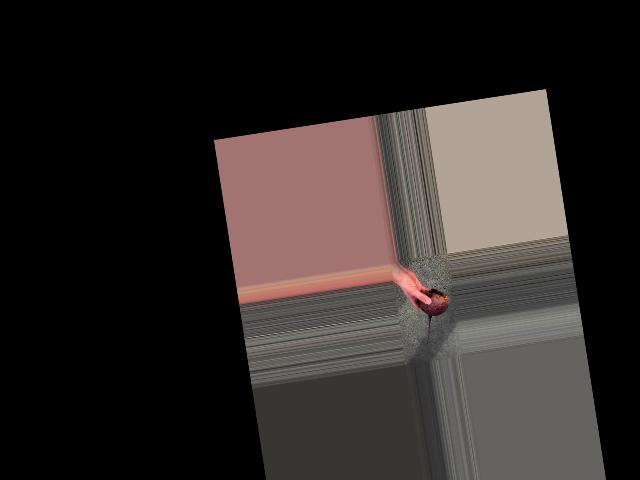beet: (417, 286, 455, 344)
